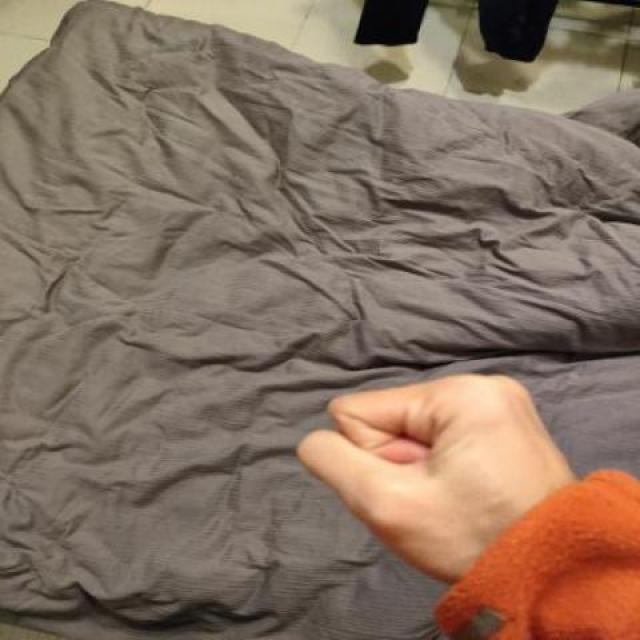Closed Hand: (292, 354, 584, 598)
